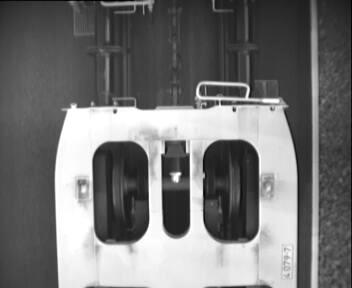twist_lock_2: (86, 133, 265, 250)
